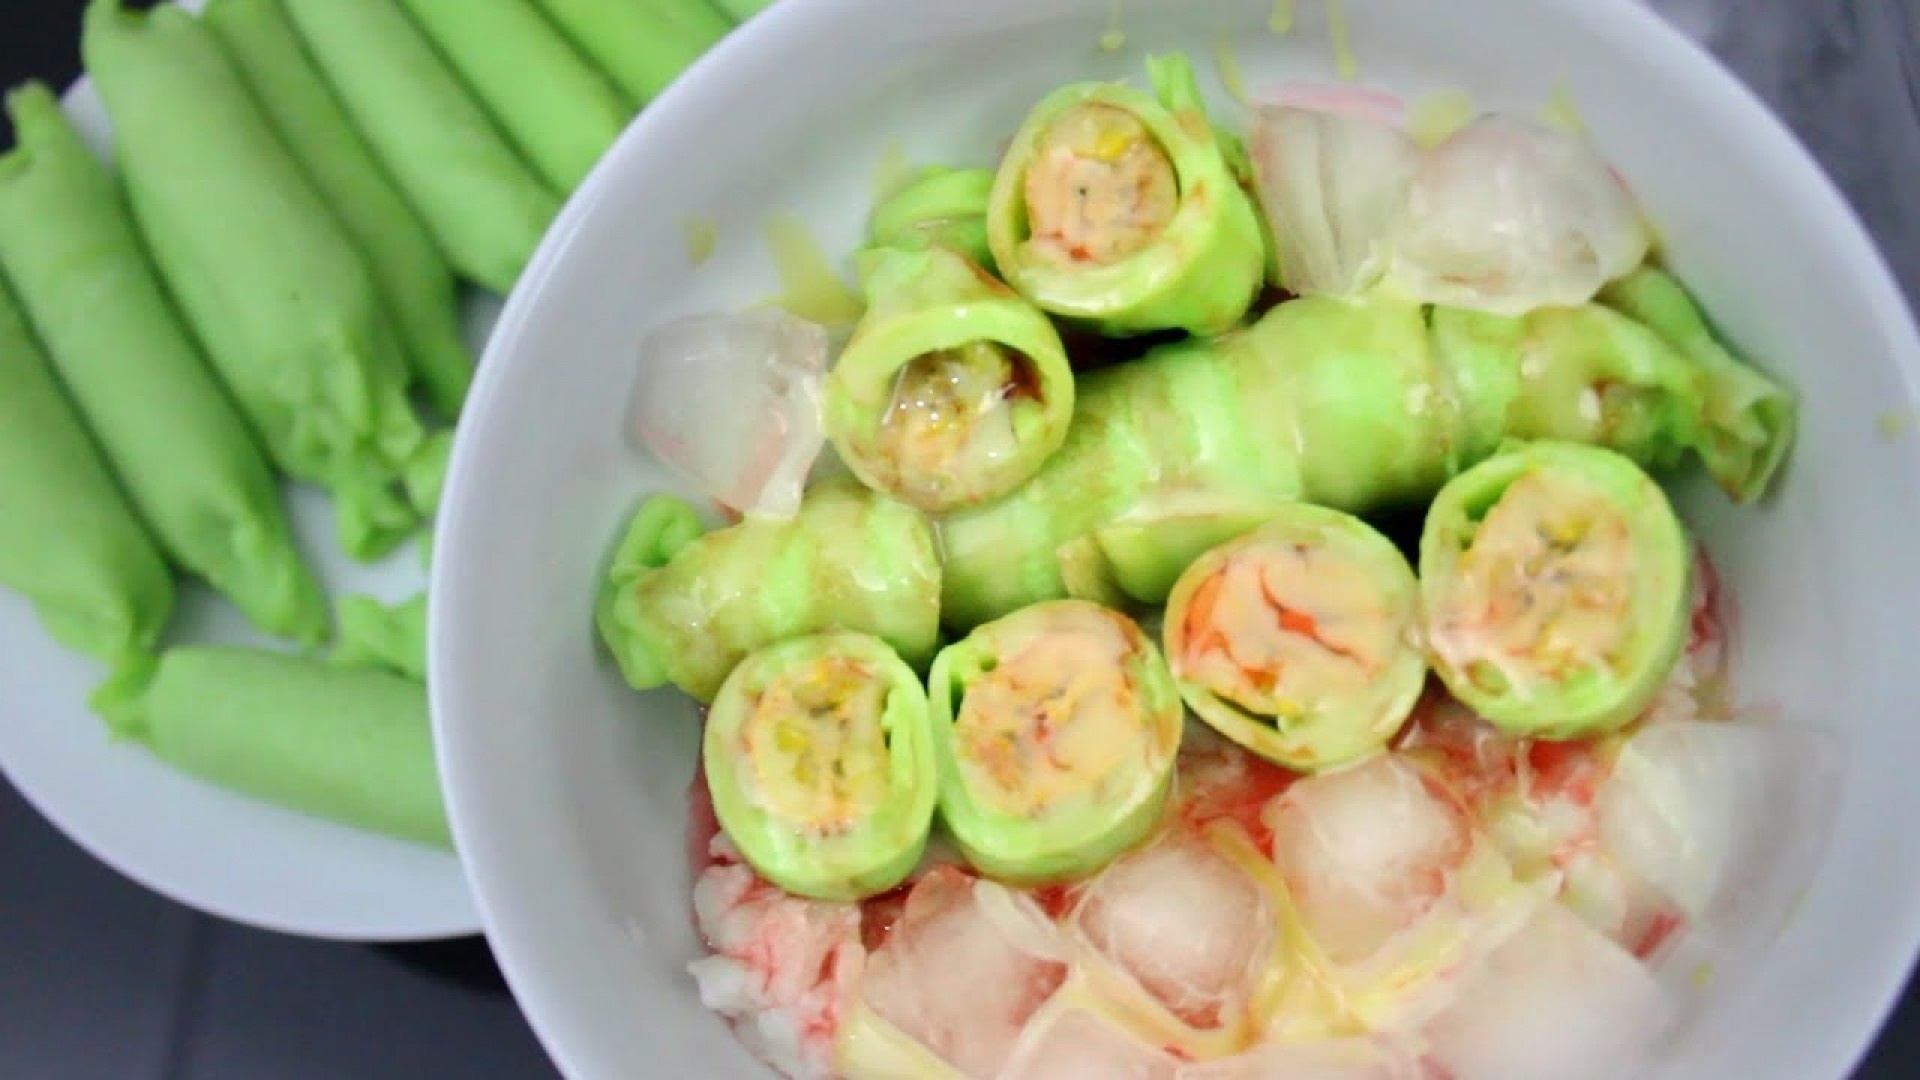pisang_ijo: (723, 650, 938, 901)
